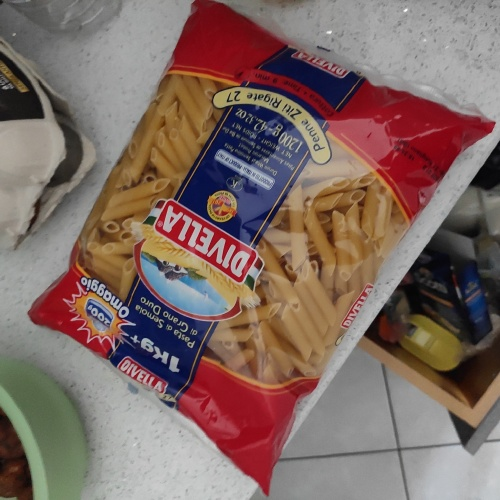pasta: (90, 47, 433, 411)
